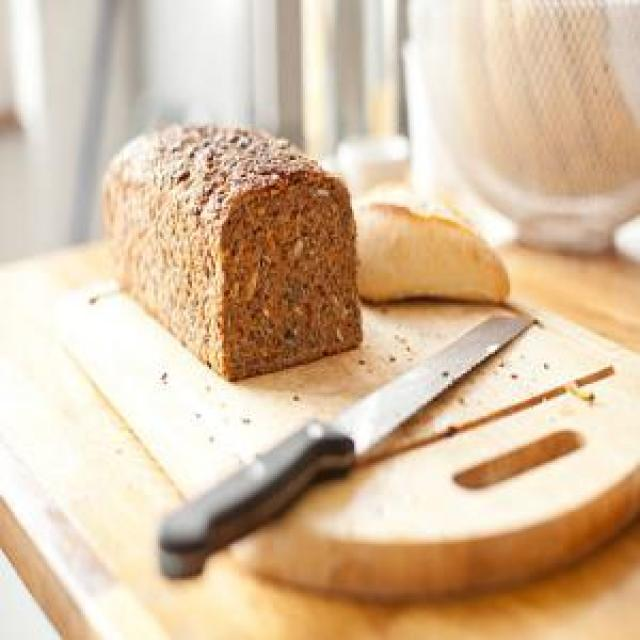knife: (156, 307, 545, 589)
